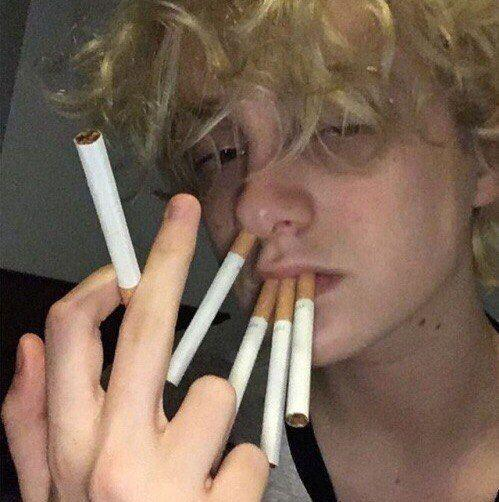cigarette: (166, 230, 259, 387), (74, 129, 142, 308), (226, 277, 281, 416), (260, 277, 297, 469), (284, 271, 316, 428)
